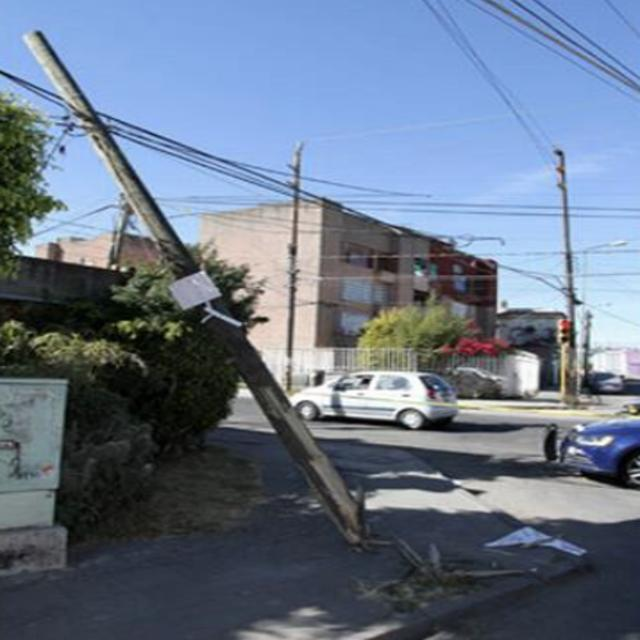Inclined Pole: (21, 21, 375, 528)
